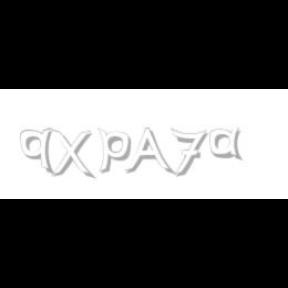7: (170, 128, 208, 178)
A: (124, 128, 172, 176)
X: (49, 128, 93, 180)
a: (210, 128, 246, 160)
p: (98, 128, 134, 174)
q: (20, 128, 56, 176)
